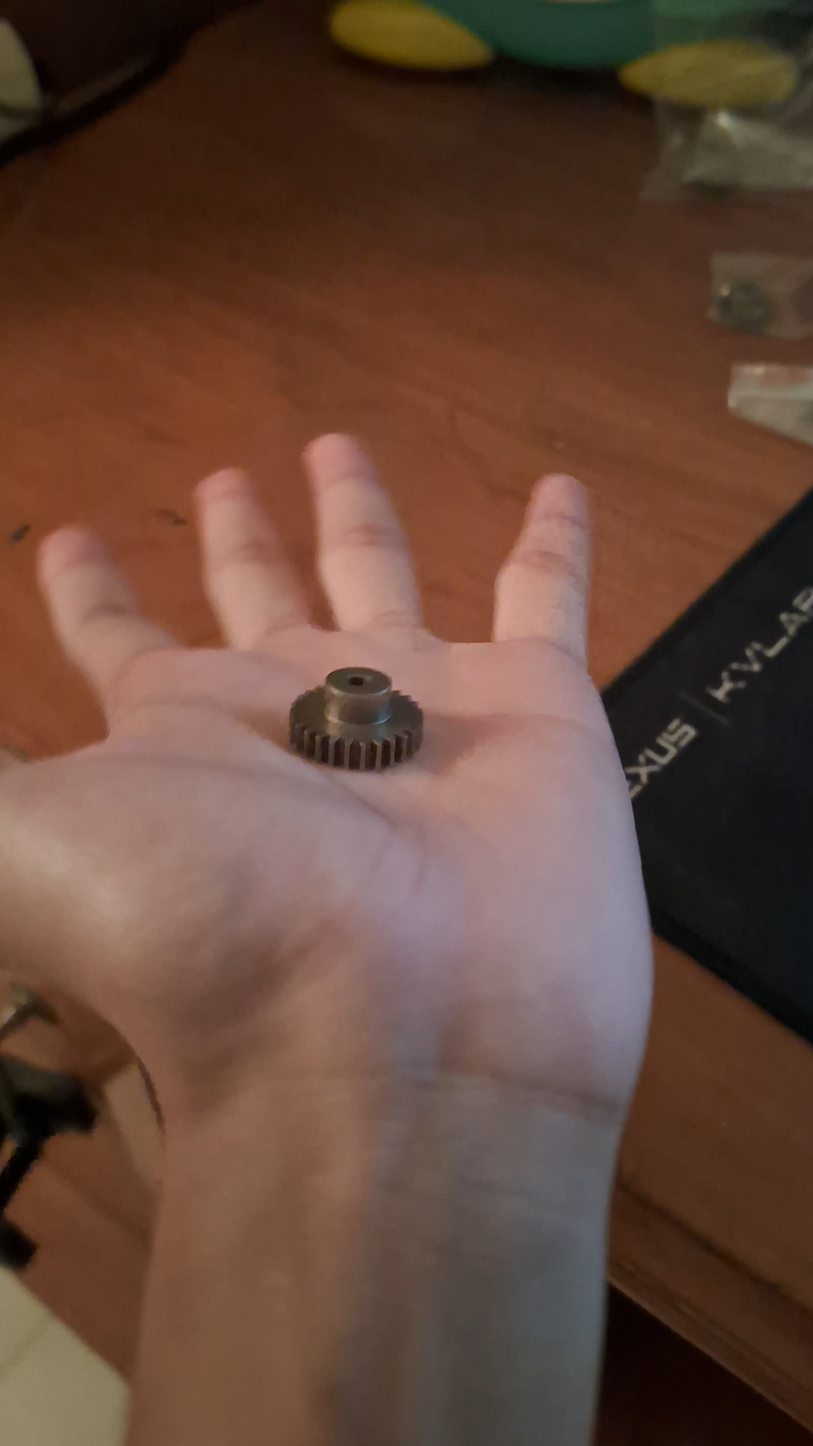spur gear: (289, 668, 423, 772)
